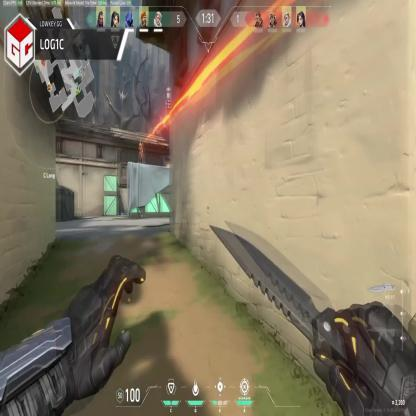enemy: (138, 142, 143, 165)
enemy_head: (139, 142, 142, 148)
